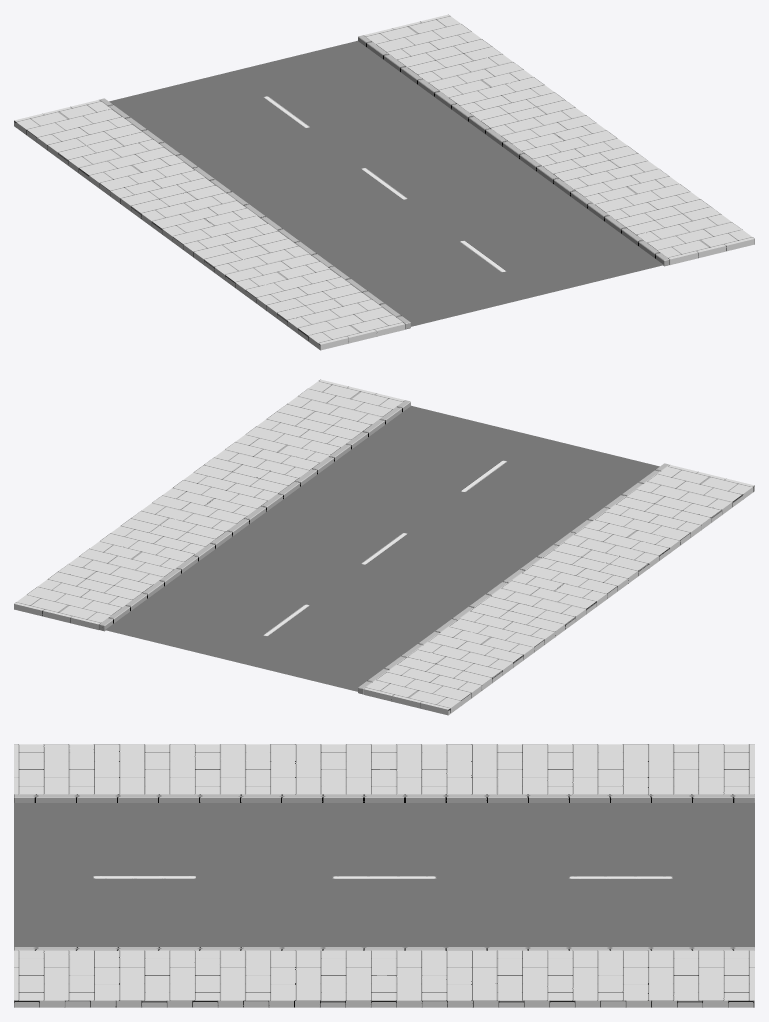
File: Road Straight.fbx
The picture shows the model from 3 angles, top to bottom: view 1: azimuth 30°, elevation 25°; view 2: azimuth 150°, elevation 25°; view 3: azimuth 270°, elevation 25°; orthographic projection. The views are drawn at different scales.
Visible parts, largest first — view 1: pPlane1, pCube2, pCube4, pCube3, pCube1; view 2: pPlane1, pCube2, pCube4, pCube3, pCube1; view 3: pPlane1, pCube4, pCube2, pCube1, pCube3.
Boxes of the visible parts, left/top/right/bottom form: pPlane1: left=109, top=40, right=663, bottom=326; pCube2: left=14, top=100, right=405, bottom=350; pCube4: left=363, top=14, right=754, bottom=264; pCube3: left=358, top=35, right=669, bottom=266; pCube1: left=99, top=98, right=410, bottom=329; pPlane1: left=105, top=405, right=659, bottom=691; pCube2: left=363, top=465, right=754, bottom=715; pCube4: left=14, top=379, right=405, bottom=629; pCube3: left=99, top=400, right=410, bottom=631; pCube1: left=358, top=463, right=669, bottom=694; pPlane1: left=14, top=803, right=754, bottom=946; pCube4: left=14, top=950, right=754, bottom=1007; pCube2: left=14, top=744, right=754, bottom=794; pCube1: left=14, top=794, right=754, bottom=802; pCube3: left=14, top=947, right=754, bottom=950.
Size of the model in its own units: 20.46 by 0.2748 by 25.
3 materials, 3 textured.
